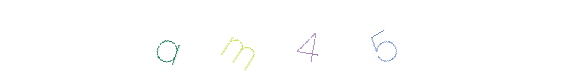4: (250, 0, 330, 80)
5: (287, 0, 367, 80)
A: (129, 0, 209, 80)
M: (200, 0, 280, 80)
